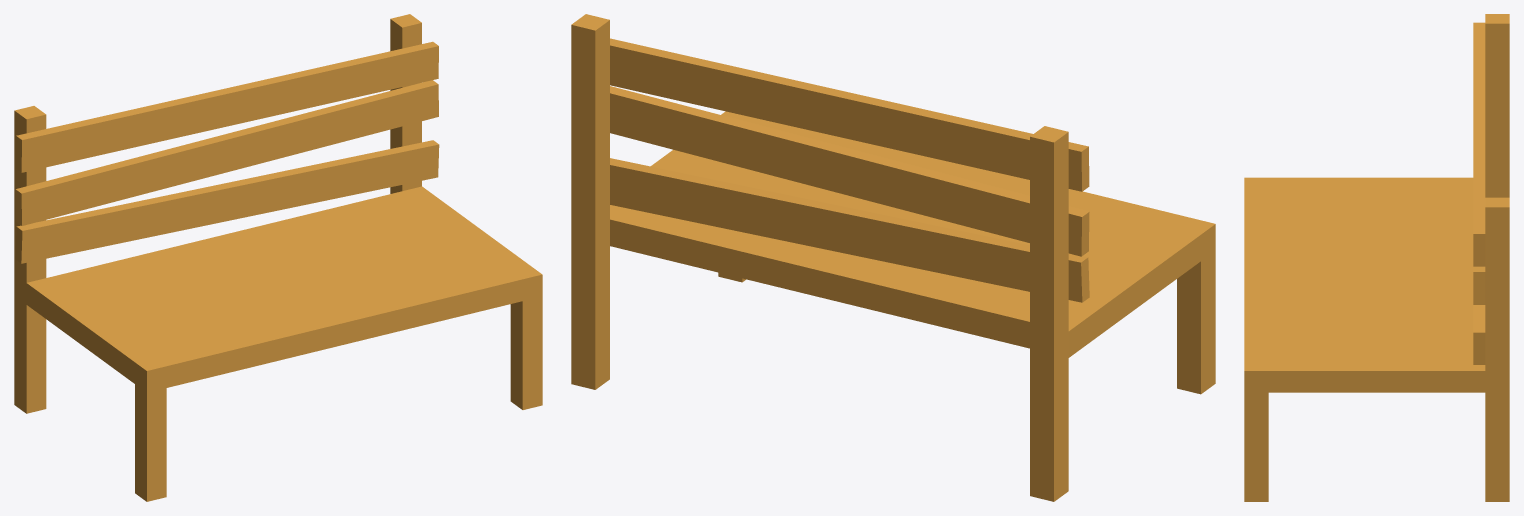
Rendered from egypt-market-table.fbx.
3 views of the same model, side by side, from view 1: azimuth 30°, elevation 25°; view 2: azimuth 150°, elevation 25°; view 3: azimuth 270°, elevation 25° (orthographic). The views are drawn at different scales.
Parts seen in each view (by area): view 1: egypt-market-table; view 2: egypt-market-table; view 3: egypt-market-table.
Part boxes in pixels (x1,y1,x2,y2): egypt-market-table: [14, 14, 542, 501]; egypt-market-table: [571, 14, 1215, 501]; egypt-market-table: [1244, 14, 1509, 501].
Size of the model in its own units: 2 by 1.35 by 1.1.
